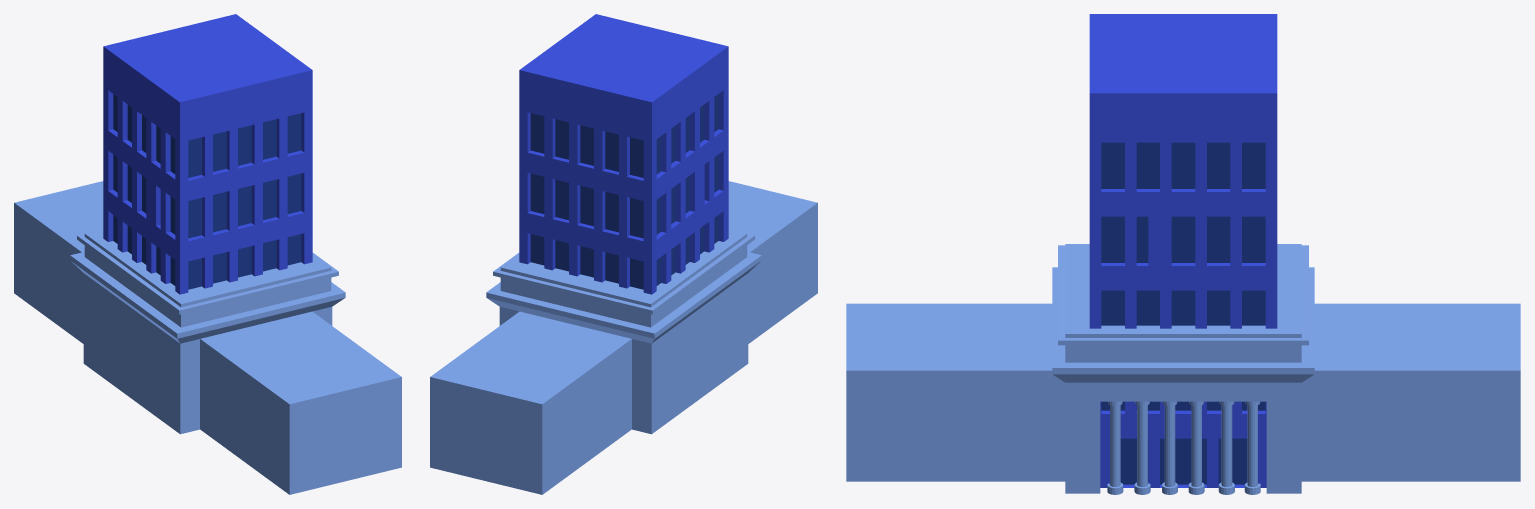
Rendered from Buildings.fbx.
The picture shows the model from 3 angles, left to right: view 1: azimuth 30°, elevation 25°; view 2: azimuth 150°, elevation 25°; view 3: azimuth 270°, elevation 25°; orthographic projection. The views are drawn at different scales.
Parts seen in each view (by area): view 1: Cylinder.006, Building; view 2: Cylinder.006, Building; view 3: Cylinder.006, Building.
Boxes of the visible parts, x1,y1,x2,y2 form: Cylinder.006: [14, 181, 401, 494]; Building: [103, 14, 312, 294]; Cylinder.006: [430, 181, 817, 494]; Building: [519, 14, 728, 294]; Cylinder.006: [846, 244, 1520, 494]; Building: [1089, 14, 1277, 487].
Size of the model in its own units: 2524 by 4640 by 7143.
